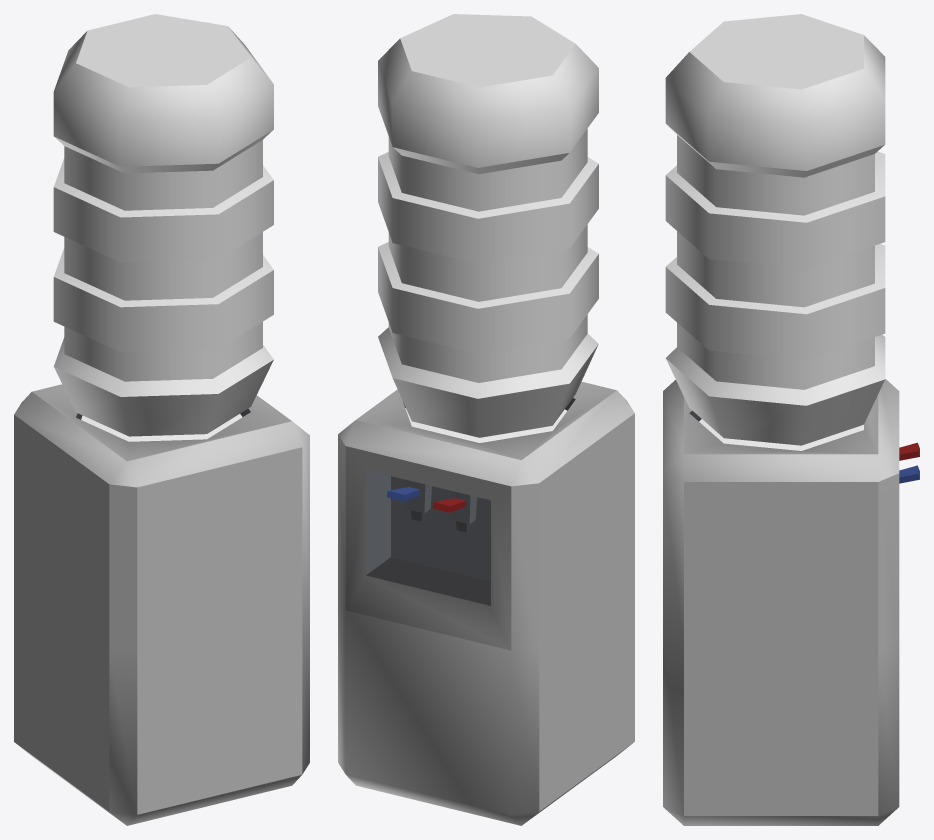
Rendered from WaterCooler.fbx.
The picture shows the model from 3 angles, left to right: view 1: azimuth 30°, elevation 25°; view 2: azimuth 150°, elevation 25°; view 3: azimuth 270°, elevation 25°; orthographic projection.
Parts seen in each view (by area): view 1: WaterCooler, WaterCoolerJug; view 2: WaterCooler, WaterCoolerJug; view 3: WaterCooler, WaterCoolerJug.
Boxes of the visible parts, left/top/right/bottom form: WaterCooler: left=14, top=384, right=309, bottom=825; WaterCoolerJug: left=53, top=14, right=273, bottom=436; WaterCooler: left=338, top=381, right=634, bottom=825; WaterCoolerJug: left=378, top=14, right=598, bottom=437; WaterCooler: left=663, top=379, right=919, bottom=825; WaterCoolerJug: left=665, top=14, right=885, bottom=445.
Size of the model in its own units: 0.3936 by 1.35 by 0.4281.
